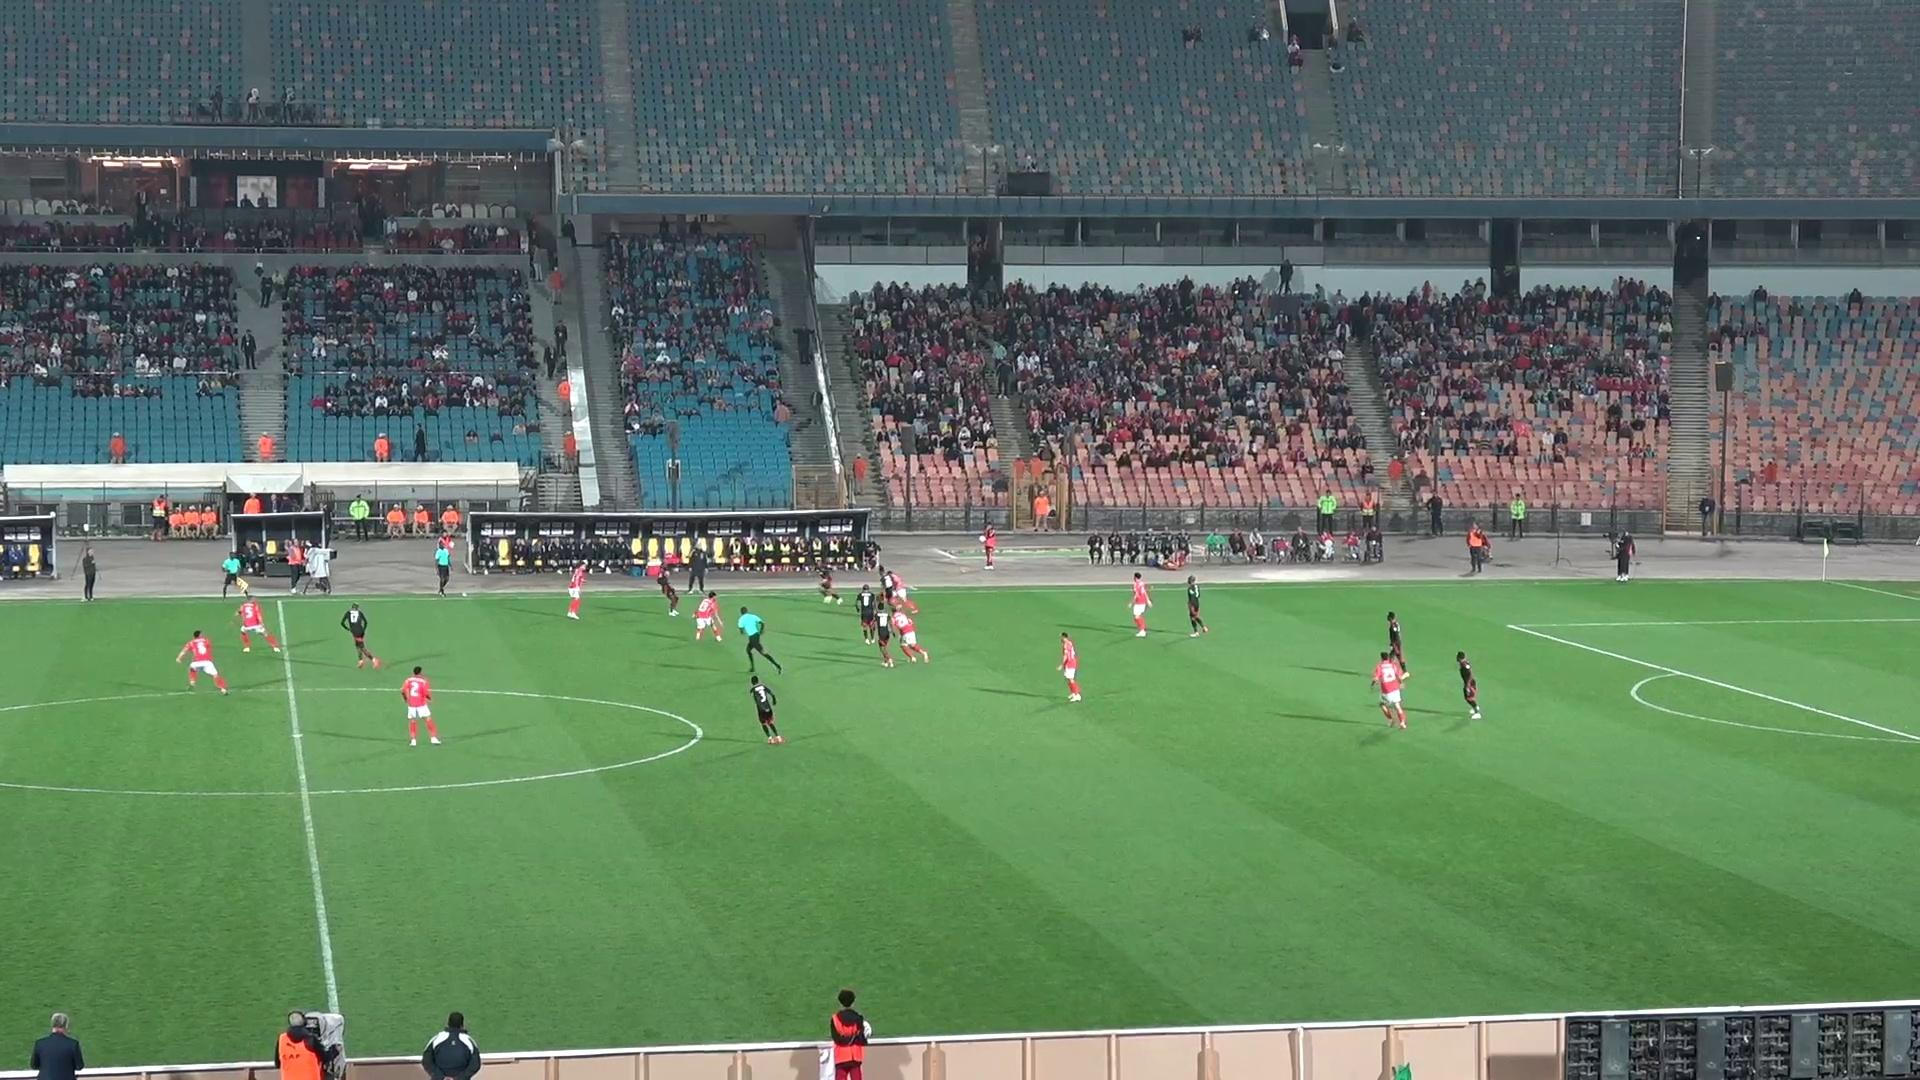Refree: (736, 607, 783, 674), (220, 551, 251, 597), (433, 534, 454, 595)
Team1: (175, 630, 228, 694), (400, 666, 439, 746), (1371, 647, 1408, 728), (889, 607, 927, 662), (1055, 632, 1083, 702), (882, 568, 919, 615), (1127, 571, 1153, 637), (566, 559, 589, 620), (694, 591, 723, 640)
Team2: (338, 603, 382, 669), (748, 674, 785, 744), (868, 597, 895, 667), (646, 560, 679, 615), (1456, 651, 1481, 719), (808, 556, 840, 603), (1383, 611, 1408, 669), (1185, 576, 1209, 634), (856, 583, 878, 644), (876, 563, 894, 603)
